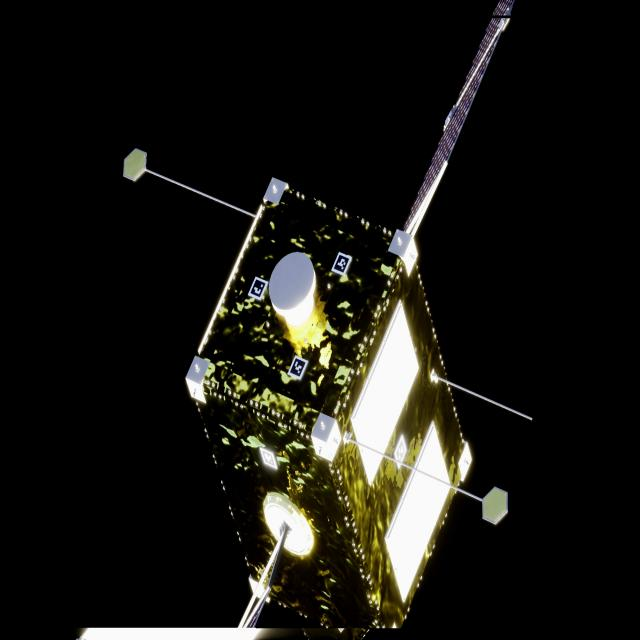satellite: (189, 0, 520, 640)
